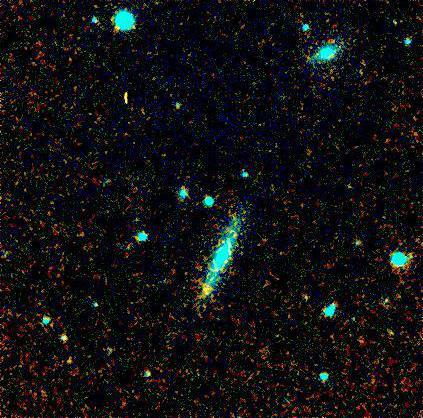star: (194, 275, 224, 305)
